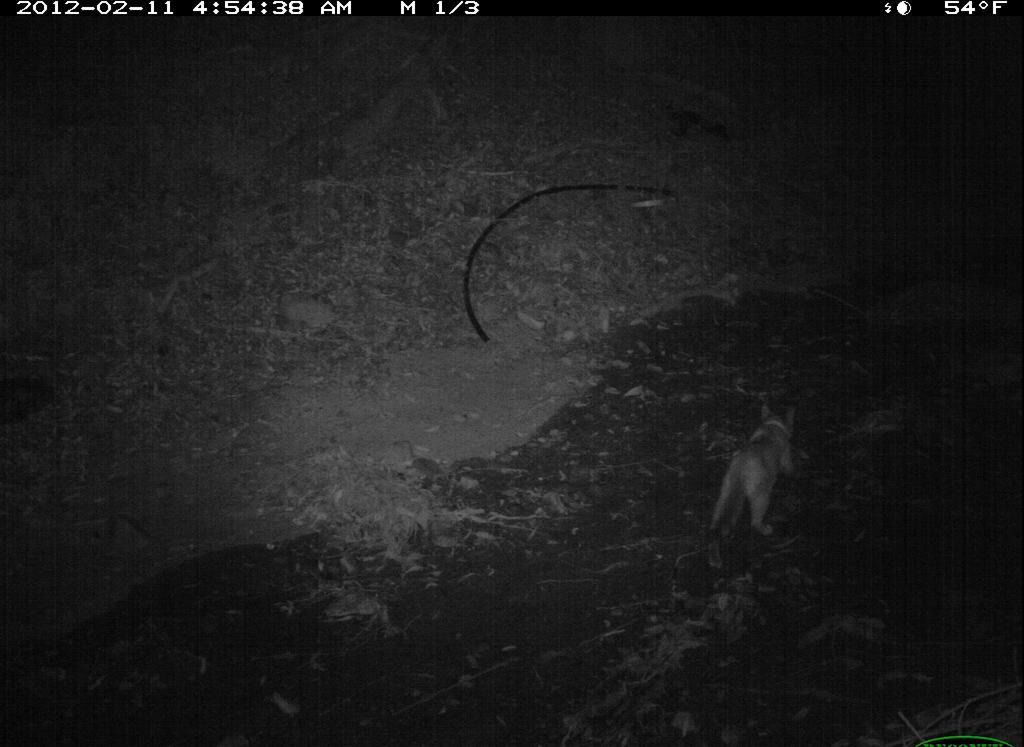cat: (692, 397, 807, 580)
